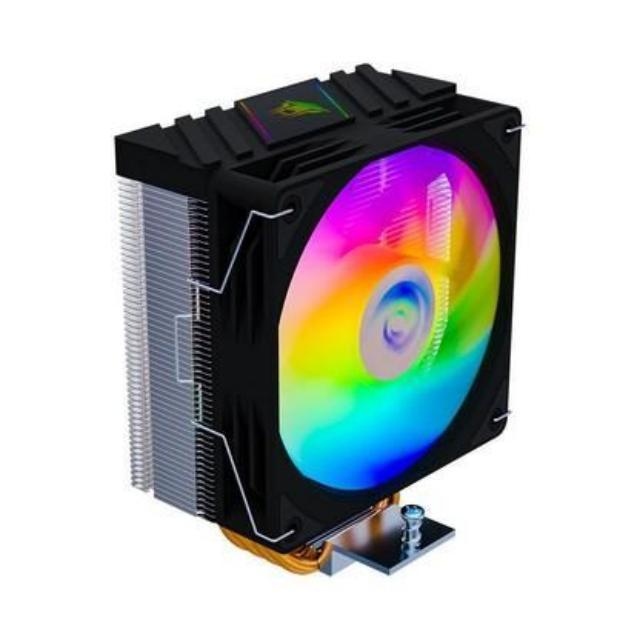CPU_Fan: (113, 61, 522, 586)
